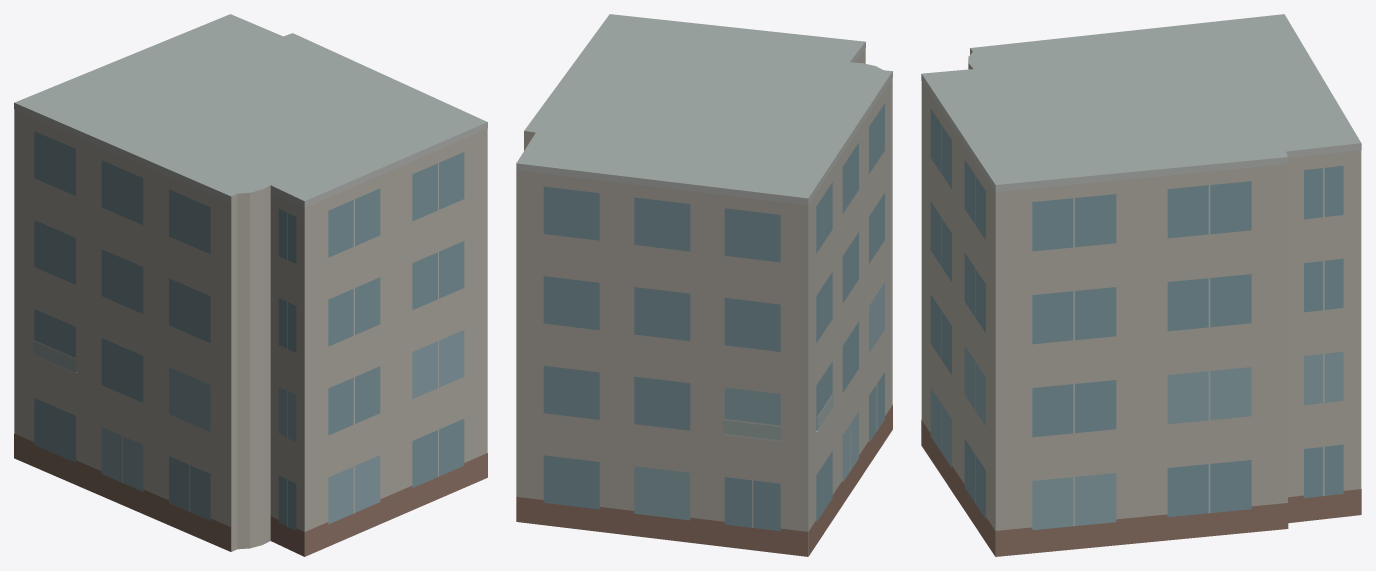
The model's file is survey-upis-32917363.glb.
3 renders of one model, left to right at view 1: azimuth 30°, elevation 25°; view 2: azimuth 150°, elevation 25°; view 3: azimuth 270°, elevation 25°, orthographic. The views are drawn at different scales.
Visible parts, largest first — view 1: survey-upis-32917363.tmp; view 2: survey-upis-32917363.tmp; view 3: survey-upis-32917363.tmp.
Part boxes in pixels (bbox=[...]): survey-upis-32917363.tmp: bbox=[14, 14, 487, 556]; survey-upis-32917363.tmp: bbox=[516, 14, 892, 556]; survey-upis-32917363.tmp: bbox=[921, 14, 1361, 556].
Size of the model in its own units: 12.64 by 12.8 by 13.74.
